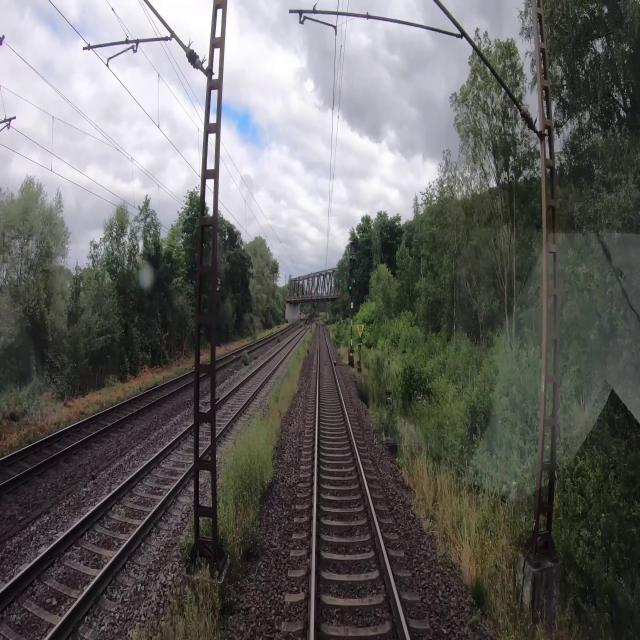Plant: (169, 321, 317, 563), (132, 548, 241, 639)
